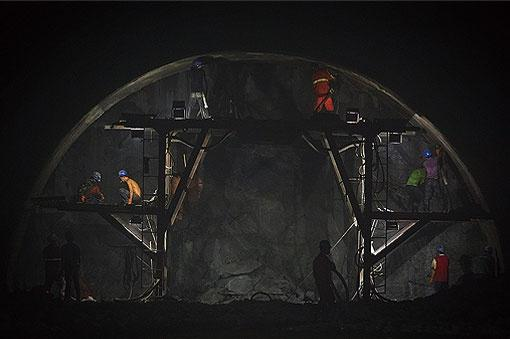NoVest: (190, 68, 206, 93)
Vest: (311, 70, 332, 93)
